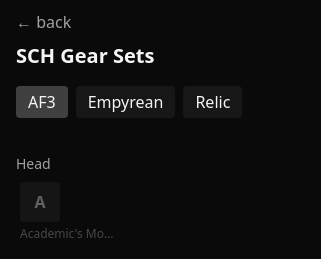
Scenario: GearScreen › switches tabs between af3, empyrean, and relic
Expected: the text "Academic's Mortarboard" is shown, [20, 226, 116, 242]
Click the tab "Empyrean" at (126, 102), box [76, 86, 175, 118]
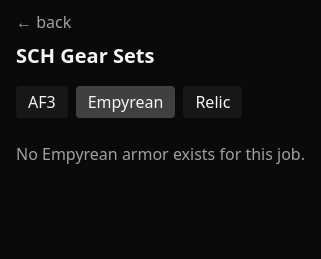
Now the text "Academic's Mortarboard" is gone
